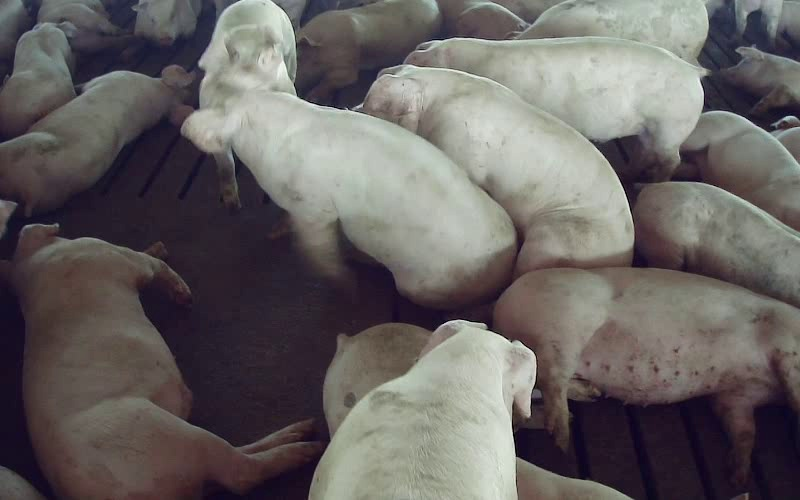pig: (3, 225, 320, 499), (182, 89, 516, 308), (494, 268, 799, 485), (363, 65, 633, 276), (405, 37, 703, 179), (310, 320, 535, 499), (0, 65, 192, 214), (633, 182, 799, 307), (681, 111, 799, 230), (518, 0, 708, 64), (0, 23, 75, 138)
